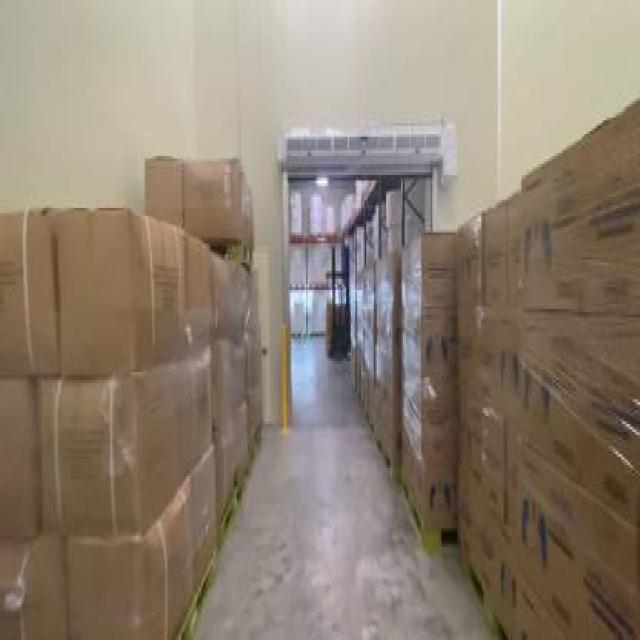box: (2, 150, 263, 638), (454, 101, 638, 637), (349, 230, 460, 555)
robot: (325, 246, 349, 358)
white_roll: (383, 188, 402, 252), (309, 244, 325, 288), (289, 189, 303, 238), (309, 296, 326, 336), (308, 197, 322, 238), (291, 301, 306, 334), (291, 246, 303, 285), (326, 202, 337, 238)
